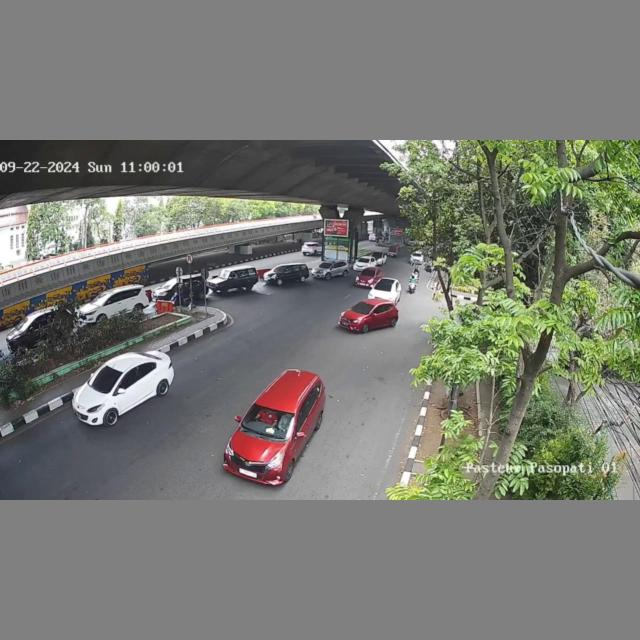windshield: (243, 404, 294, 436), (89, 365, 122, 390), (351, 302, 374, 315), (374, 281, 397, 292), (362, 269, 375, 276)
